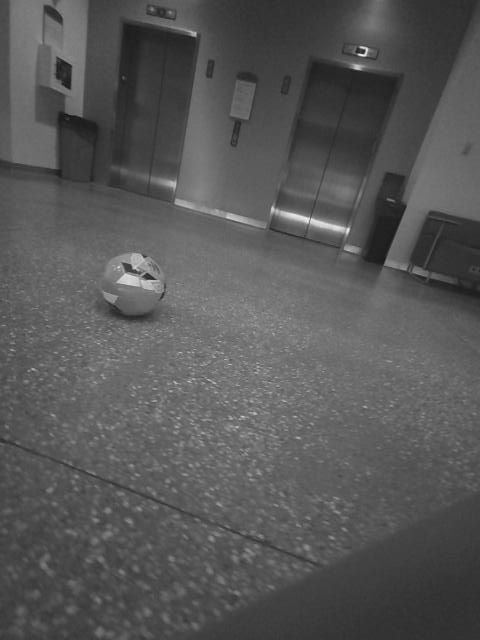ball: (237, 259, 289, 307)
